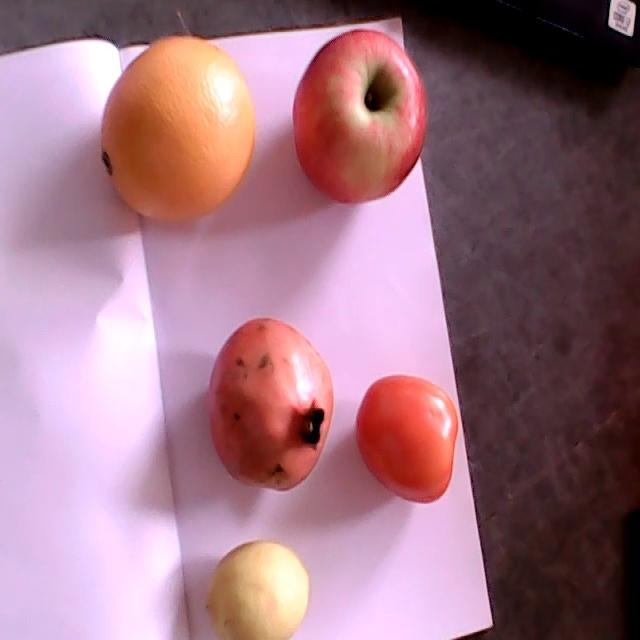apple: (292, 30, 429, 203)
lemon: (205, 541, 311, 639)
orange: (100, 35, 255, 221)
pomegranate: (209, 318, 334, 490)
tomato: (356, 376, 457, 502)
